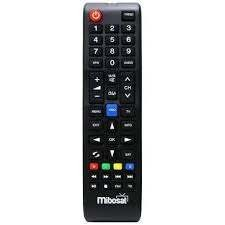remote control: (78, 0, 153, 225)
